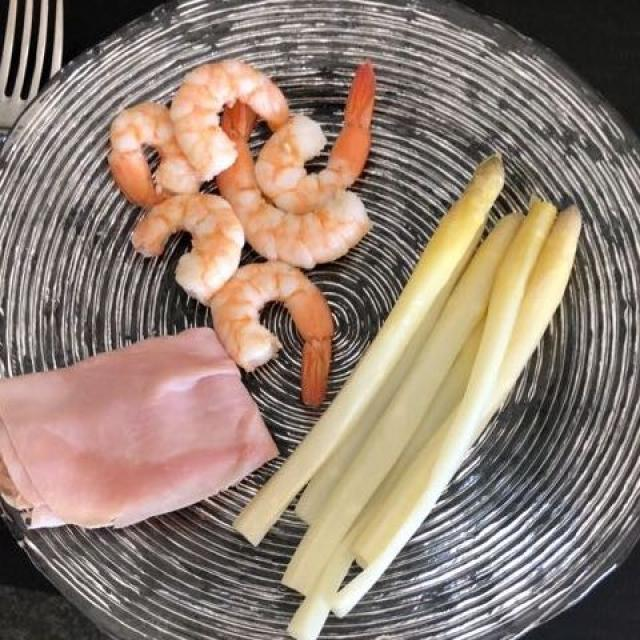asparagus: (193, 146, 601, 630)
ham: (1, 314, 290, 555)
shrimp: (113, 67, 378, 373)
